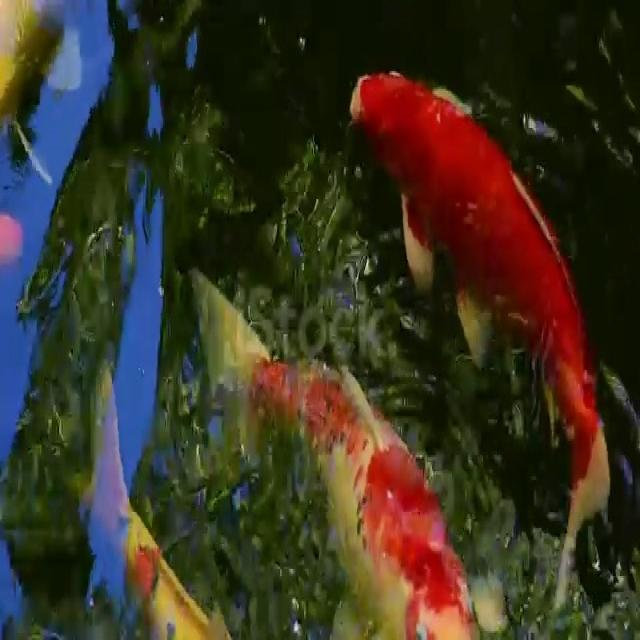fish: (348, 19, 632, 541), (198, 272, 498, 640), (75, 365, 227, 640)
